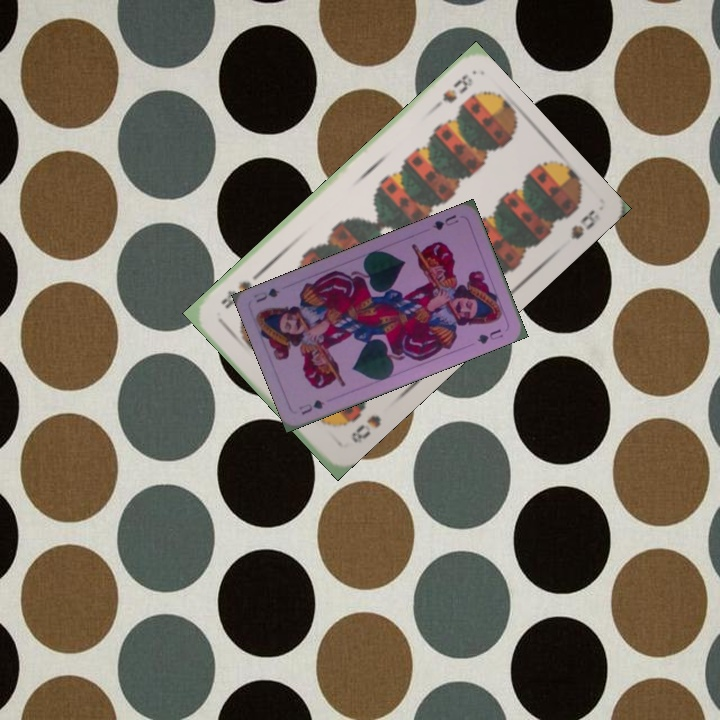GU: (429, 210, 461, 233), (295, 395, 327, 417)
S8: (425, 70, 476, 116), (347, 411, 384, 446)
